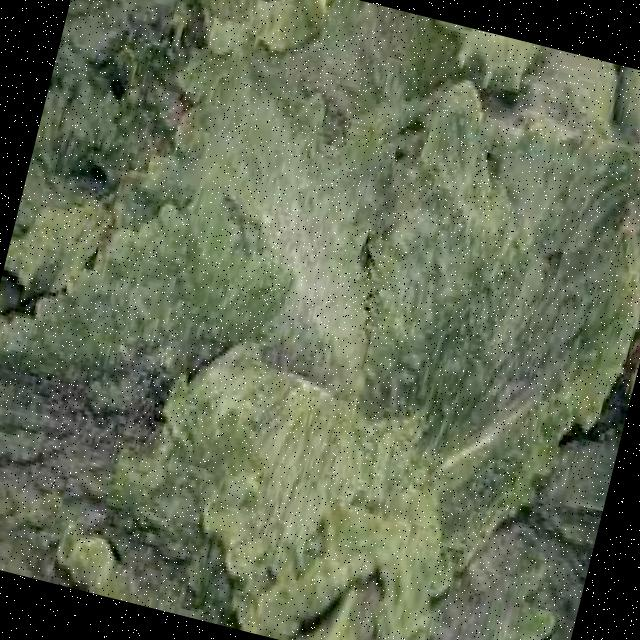Powdery_mildew_on_lettuce: (154, 98, 485, 444)
